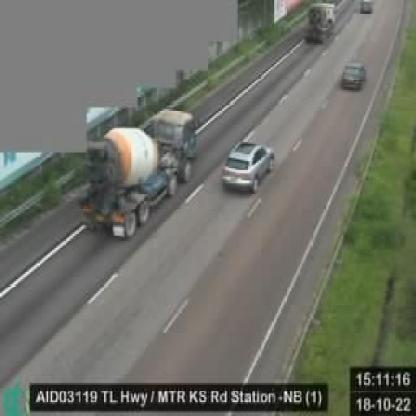Car: (220, 142, 274, 194), (342, 60, 368, 90), (360, 0, 373, 13)
Truck: (82, 108, 198, 241), (304, 1, 338, 44)
